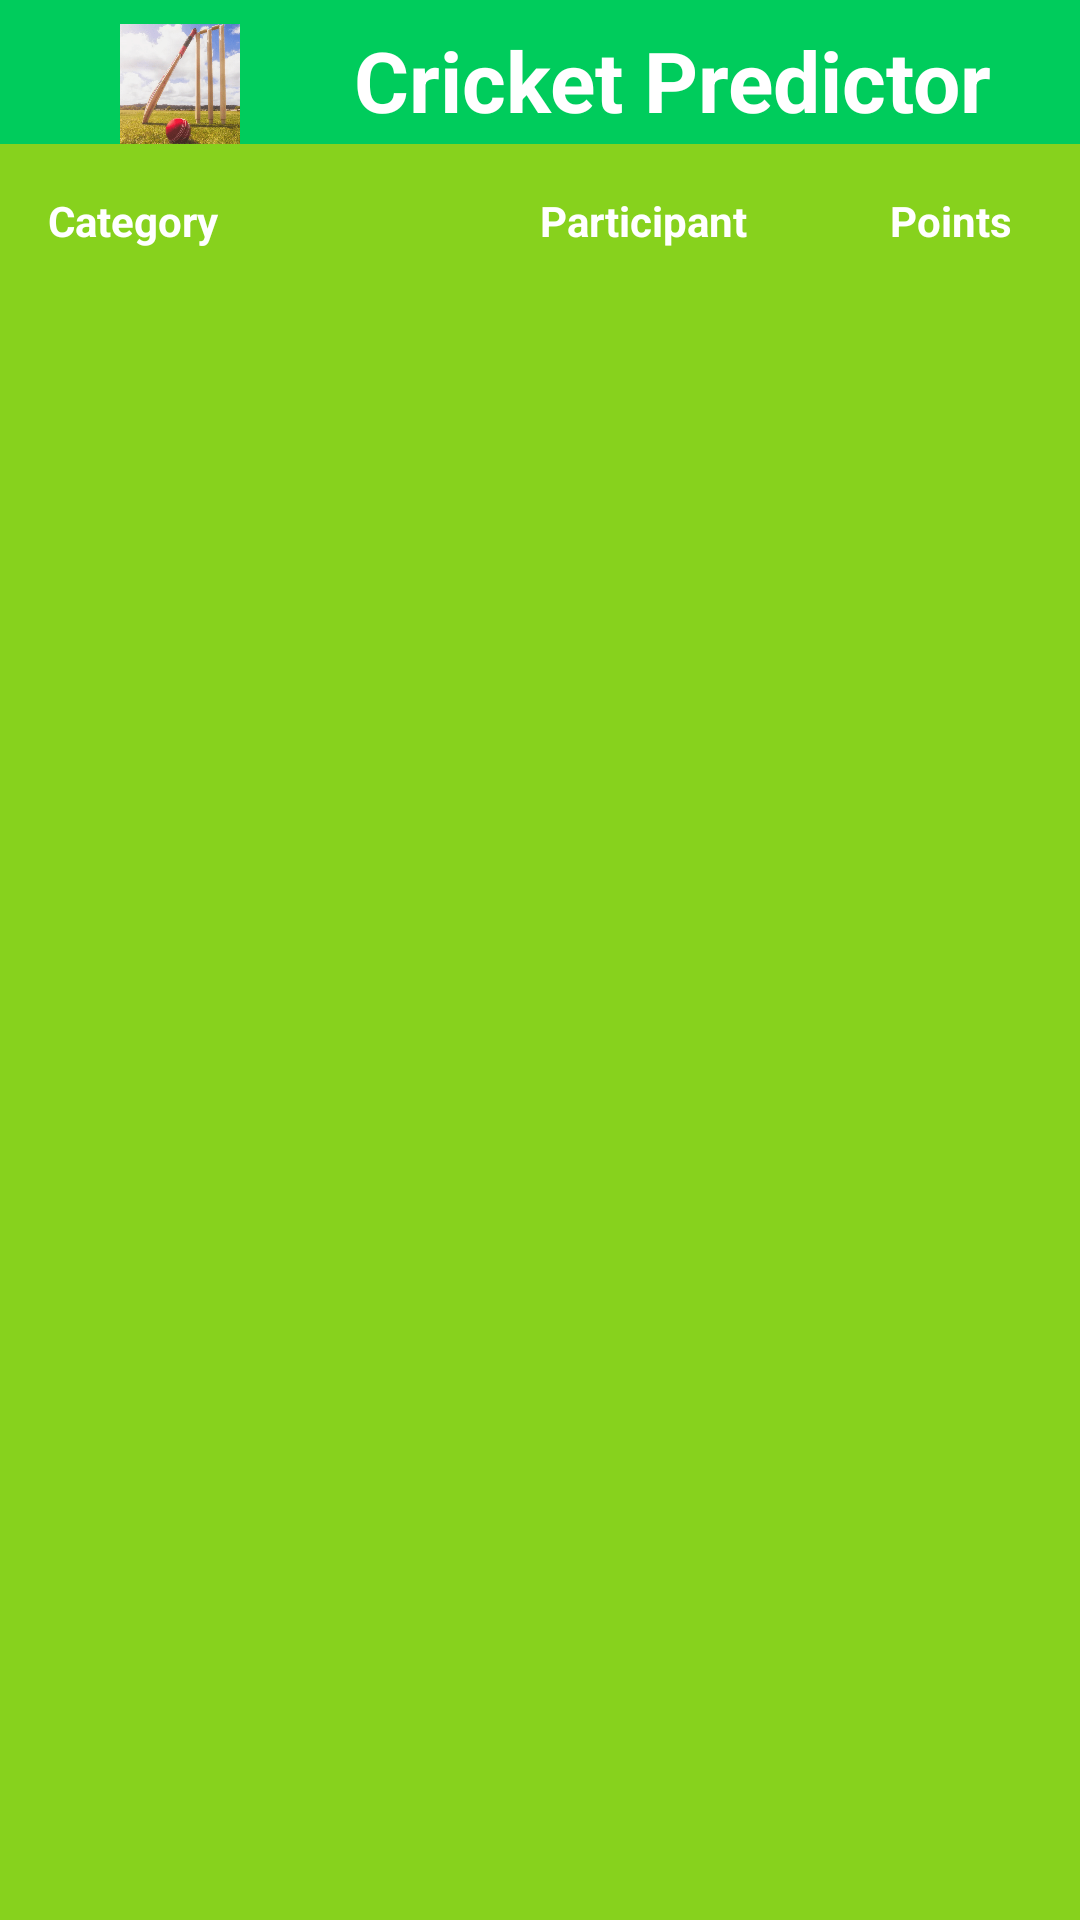

Icons on this 1080px x 1920px Android screen, each with the point to tap as (x,y):
cricpredict: (180,84)
